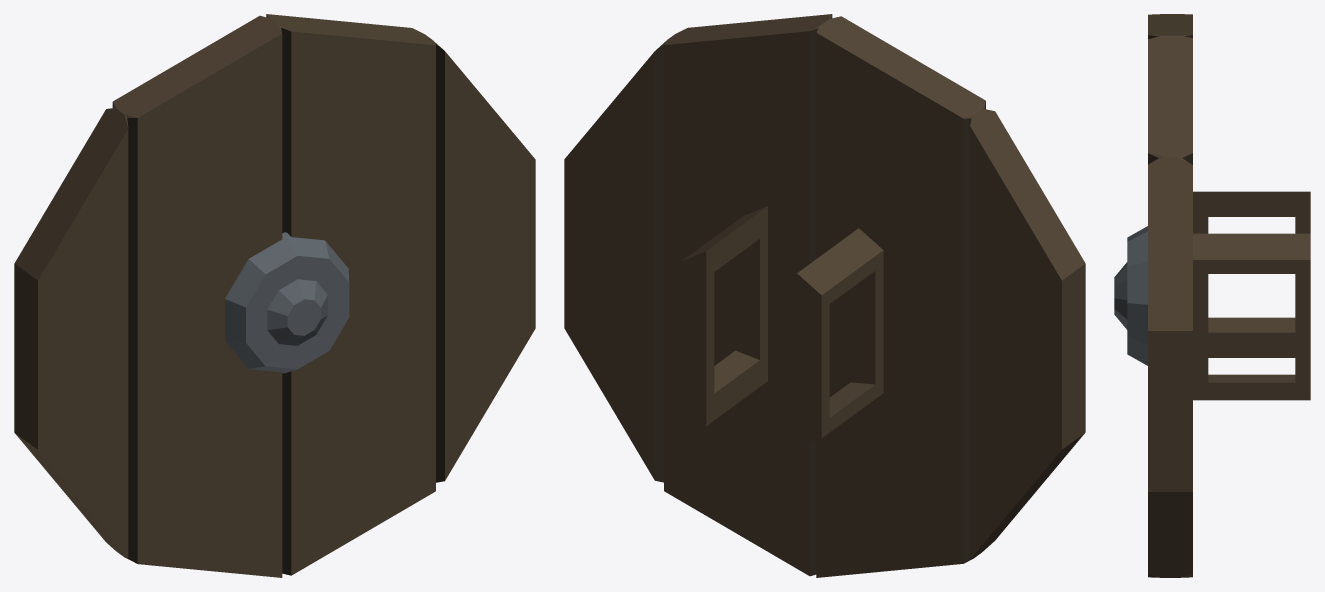
File: WoodenShield.glb
3 views of the same model, side by side, from view 1: azimuth 30°, elevation 25°; view 2: azimuth 150°, elevation 25°; view 3: azimuth 270°, elevation 25° (orthographic). The views are drawn at different scales.
Visible parts, largest first — view 1: WoodenShield; view 2: WoodenShield; view 3: WoodenShield.
Boxes of the visible parts, bbox=[...] form: WoodenShield: bbox=[14, 14, 535, 577]; WoodenShield: bbox=[564, 14, 1085, 577]; WoodenShield: bbox=[1114, 14, 1310, 577].
Bounding box in the file's own units: 13697 × 14402 × 4914.
1 material, 1 textured.
